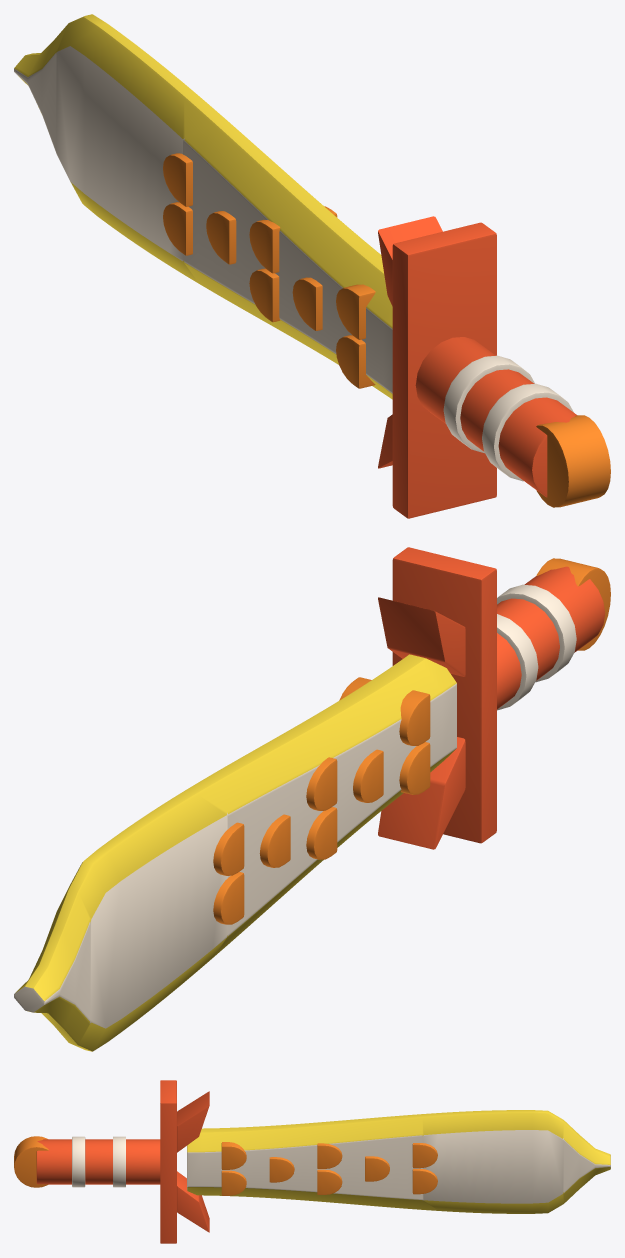
The model's file is Sword_EmberplateClaymore.glb.
3 renders of one model, top to bottom at view 1: azimuth 30°, elevation 25°; view 2: azimuth 150°, elevation 25°; view 3: azimuth 270°, elevation 25°, orthographic. The views are drawn at different scales.
Parts seen in each view (by area): view 1: Sword_EmberplateClaymore; view 2: Sword_EmberplateClaymore; view 3: Sword_EmberplateClaymore.
Boxes of the visible parts, left/top/right/bottom form: Sword_EmberplateClaymore: left=14, top=14, right=610, bottom=518; Sword_EmberplateClaymore: left=14, top=547, right=610, bottom=1051; Sword_EmberplateClaymore: left=14, top=1080, right=610, bottom=1243.
Size of the model in its own units: 0.092 by 0.26 by 1.
Materials: 1 (1 with a texture image).
